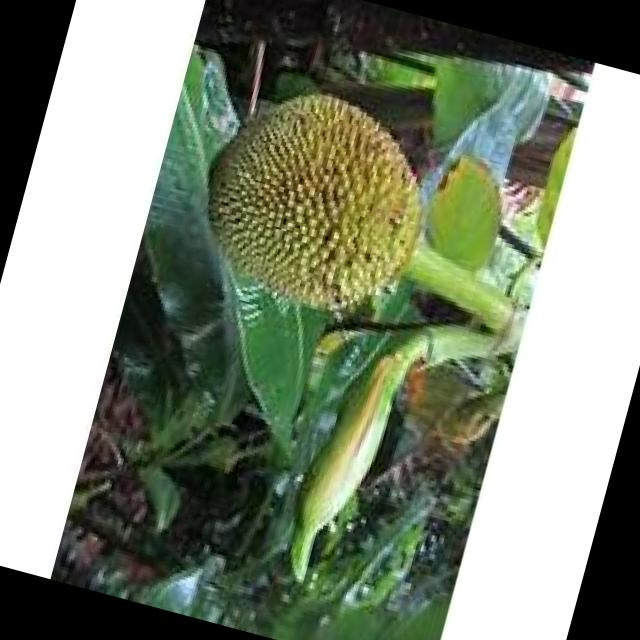Fruit: (166, 56, 466, 346)
